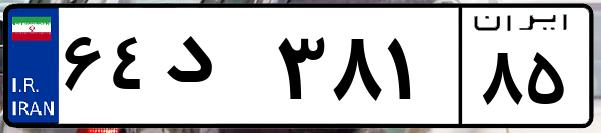1: (385, 28, 445, 110)
3: (270, 28, 330, 110)
4: (110, 28, 158, 98)
5: (525, 38, 570, 115)
6: (57, 26, 110, 100)
8: (330, 28, 385, 110), (475, 38, 525, 113)
د: (158, 20, 270, 120)
